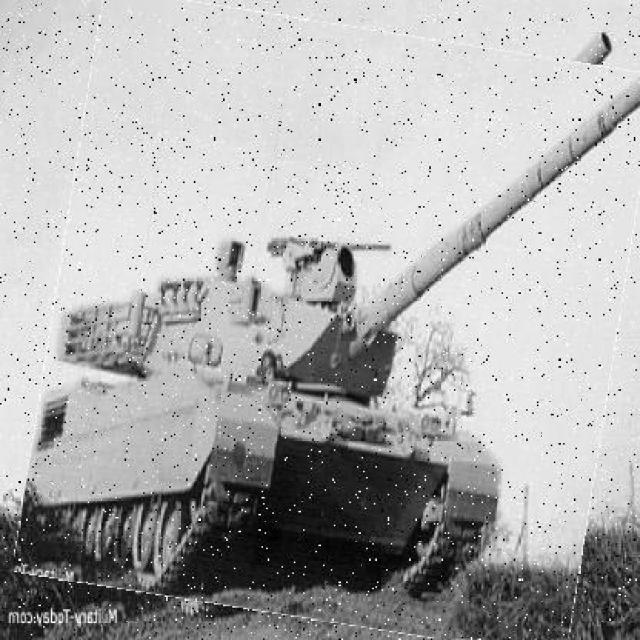Tank: (35, 9, 636, 640)
